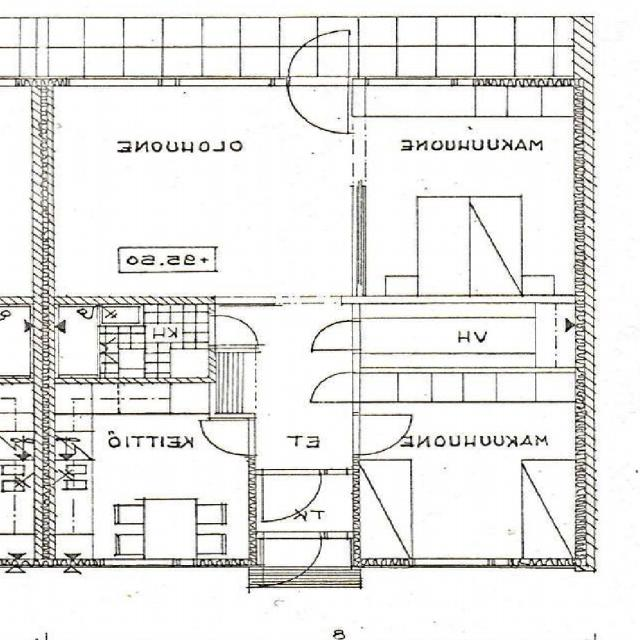door: (288, 75, 349, 132), (288, 30, 349, 86), (264, 469, 321, 518), (353, 415, 412, 454), (202, 420, 255, 455), (399, 266, 437, 304), (209, 315, 255, 345)
